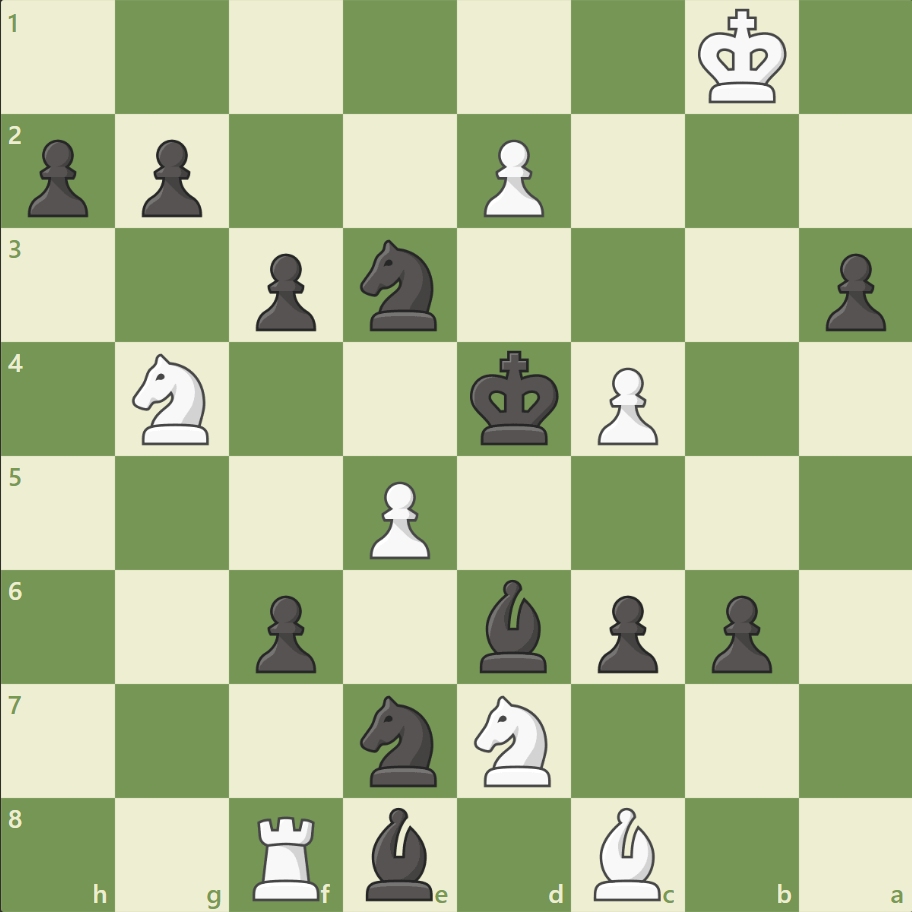B: (585, 801, 669, 904)
K: (692, 4, 792, 112)
N: (124, 348, 222, 450), (465, 688, 562, 791)
P: (474, 132, 549, 223), (361, 473, 435, 564), (588, 359, 662, 450)
R: (246, 806, 329, 904)
b: (358, 801, 442, 904), (471, 574, 555, 676)
k: (465, 344, 565, 452)
n: (351, 688, 449, 791), (351, 234, 449, 337)
p: (701, 586, 776, 677), (247, 586, 322, 677), (247, 246, 322, 337), (133, 132, 208, 223), (20, 132, 95, 223), (588, 586, 662, 677), (815, 246, 889, 337)
